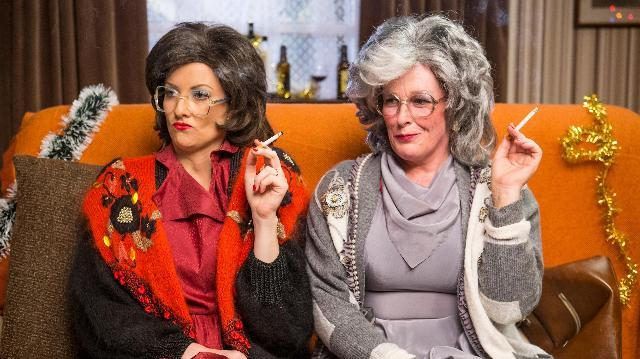SafeDriving: (409, 88, 434, 110), (190, 84, 212, 103), (162, 84, 182, 102), (382, 93, 402, 109)
Smoking: (507, 106, 539, 138), (251, 131, 287, 153)
